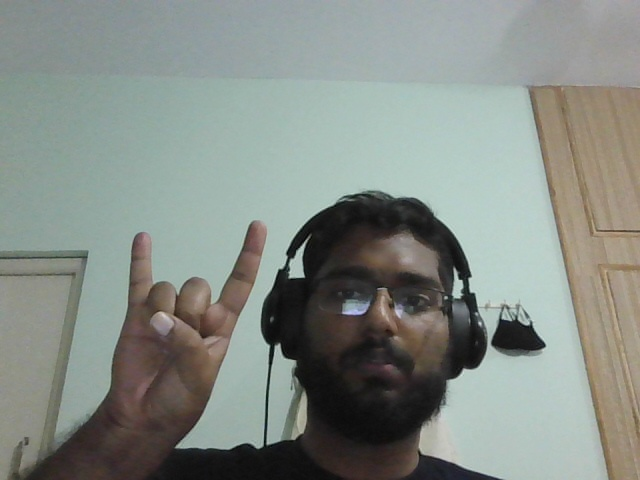I Love You: (97, 206, 289, 440)
